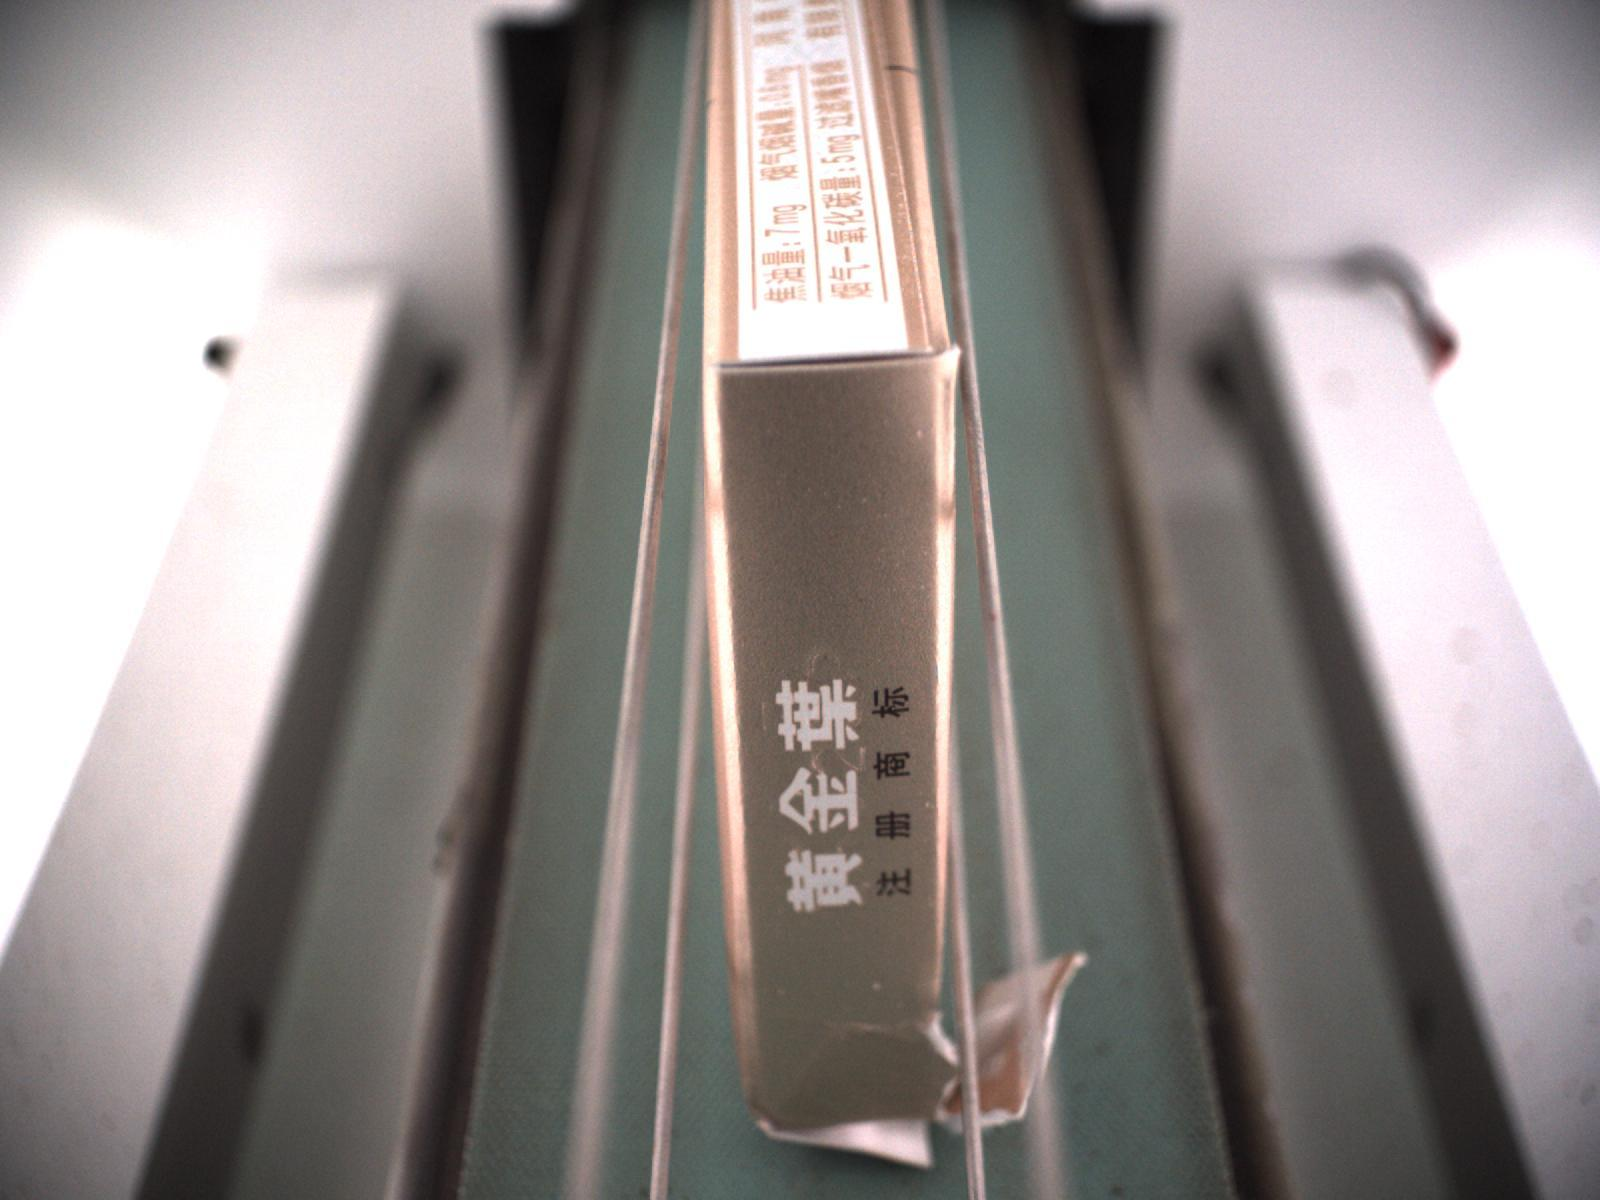lower_upwarp: (708, 339, 955, 372)
skewed_bottom_3: (751, 1109, 960, 1174)
skewed_upper_3: (863, 3, 961, 363)
